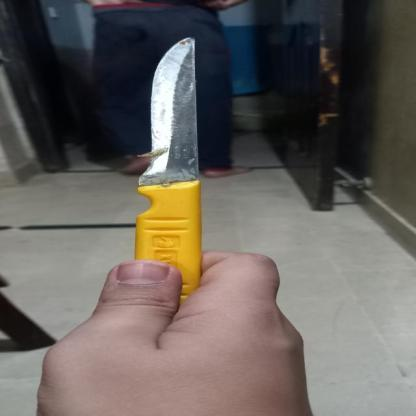Knife: (118, 34, 217, 305)
